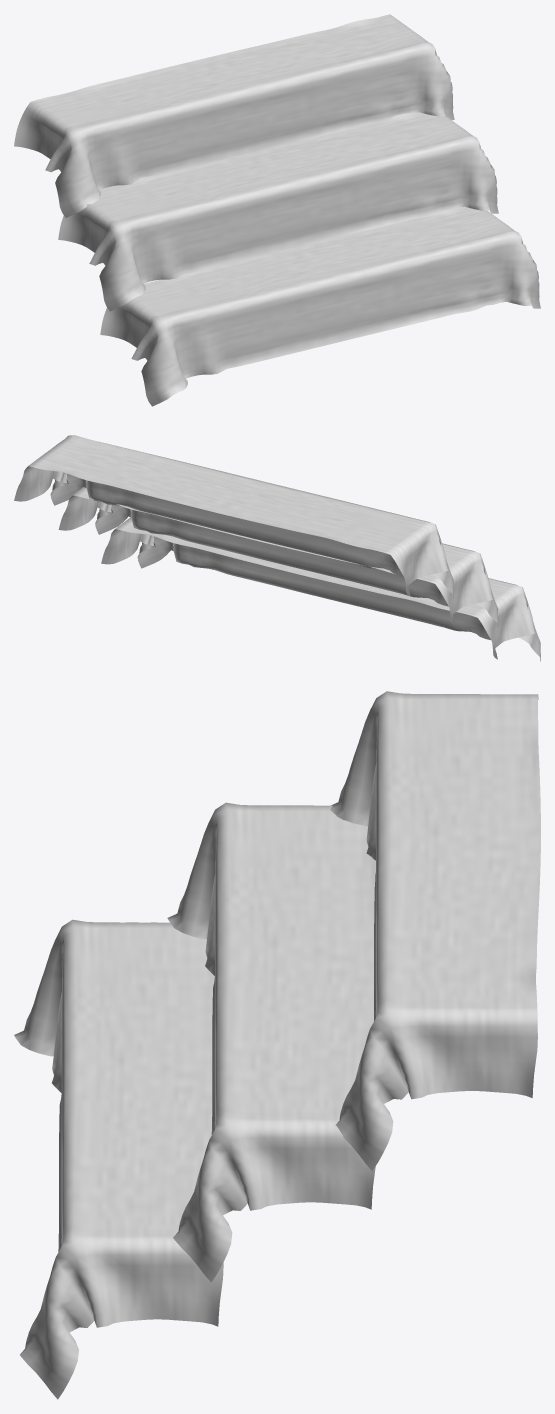
Rendered from mantel.fbx.
3 views of the same model, one above another, from view 1: azimuth 30°, elevation 25°; view 2: azimuth 150°, elevation 25°; view 3: azimuth 270°, elevation 25° (orthographic). The views are drawn at different scales.
Parts seen in each view (by area): view 1: polySurface7, polySurface5, polySurface3; view 2: polySurface7, polySurface3, polySurface5; view 3: polySurface7, polySurface5, polySurface3.
Boxes of the visible parts, box(x1,y1,x2,y2) form: polySurface7: box(14, 14, 454, 217); polySurface5: box(58, 112, 498, 311); polySurface3: box(100, 206, 540, 406); polySurface7: box(14, 435, 453, 598); polySurface3: box(101, 517, 540, 661); polySurface5: box(58, 487, 498, 627); polySurface7: box(330, 691, 540, 1170); polySurface5: box(167, 802, 375, 1282); polySurface3: box(14, 919, 223, 1399).
Size of the model in its own units: 0.0683 by 0.0333 by 0.0427.
Materials: 1 (1 with a texture image).
